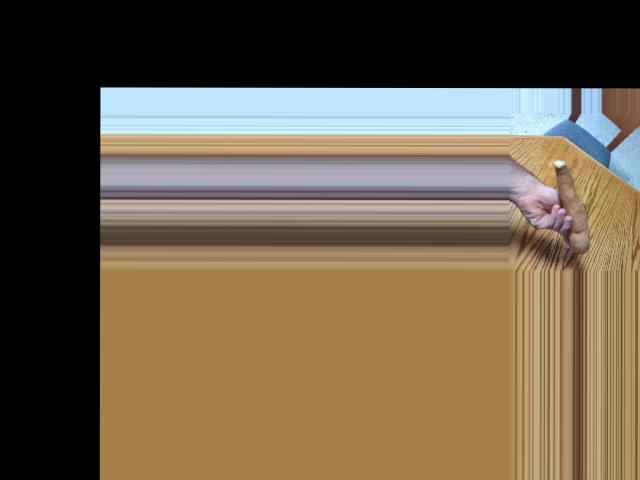sweet_potato: (551, 158, 595, 249)
